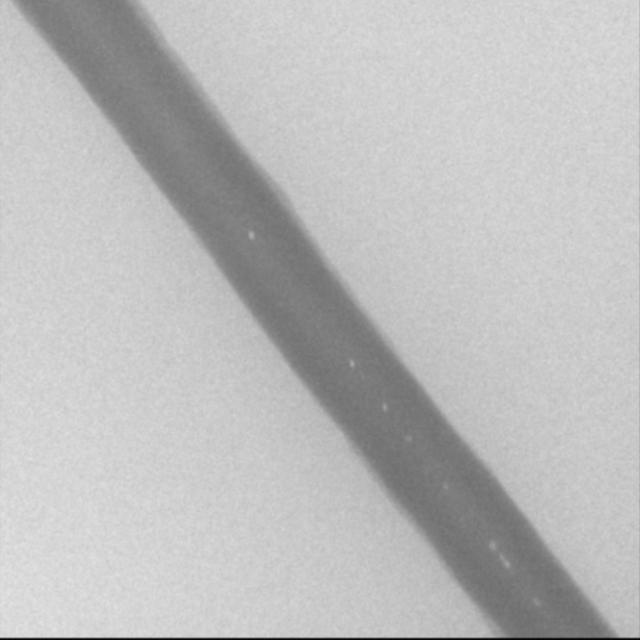air hole: (245, 227, 256, 242), (347, 357, 355, 370), (380, 402, 388, 414), (404, 433, 412, 445), (488, 541, 496, 552), (502, 560, 510, 570)
